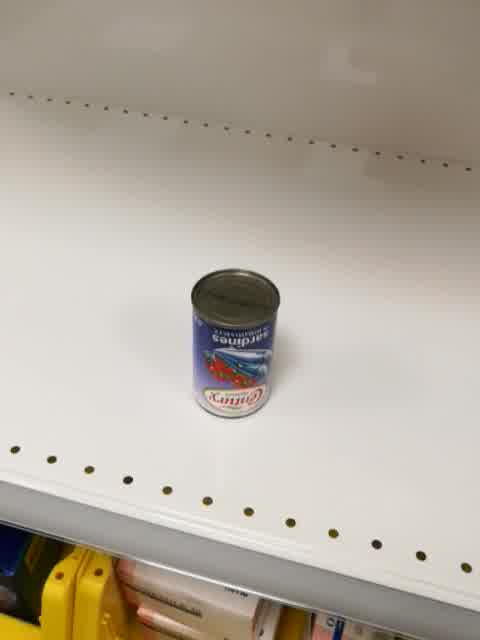sardine: (190, 269, 280, 420)
